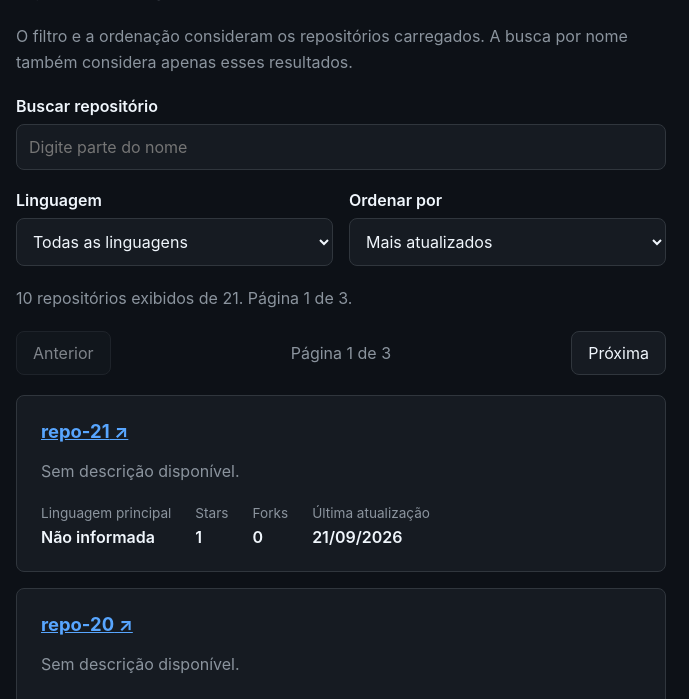
Test case: ordena todos os resultados por name e volta à primeira página
The image size is (689, 699).
(page scrolled)
Click the button "Próxima" at [619, 353], box x1=571 y1=331 x2=666 y2=375
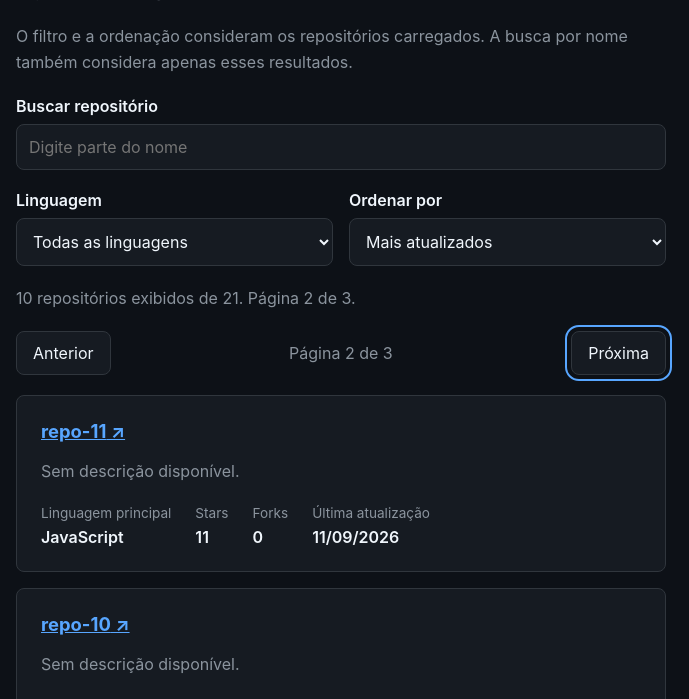
Select "Nome A–Z" in the dropdown labelled "Ordenar por" at [508, 242], box x1=349 y1=218 x2=666 y2=266
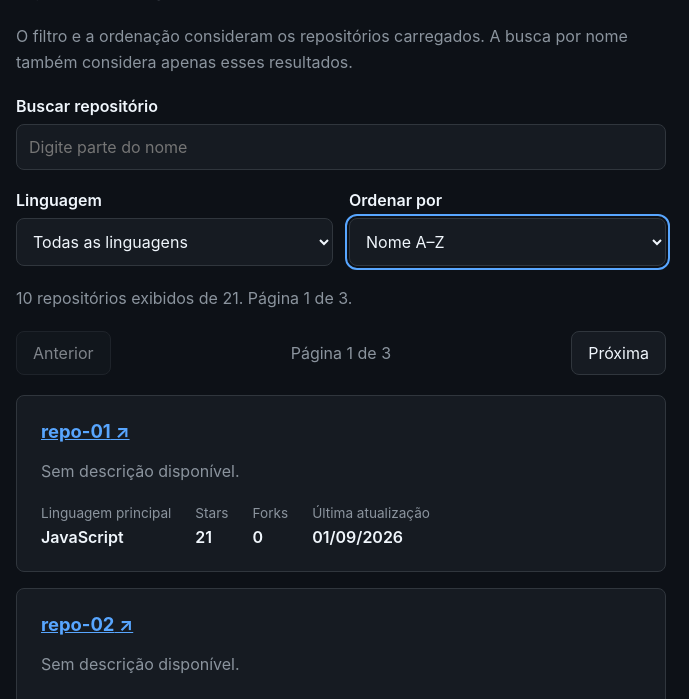
Check: the navigation bar named "Paginação dos repositórios" shows "Página 1 de 3", box x1=16 y1=331 x2=666 y2=375
Check: the link "repo-01 ↗" is shown, box x1=41 y1=420 x2=130 y2=442
Click the button "Próxima" at [619, 353], box x1=571 y1=331 x2=666 y2=375
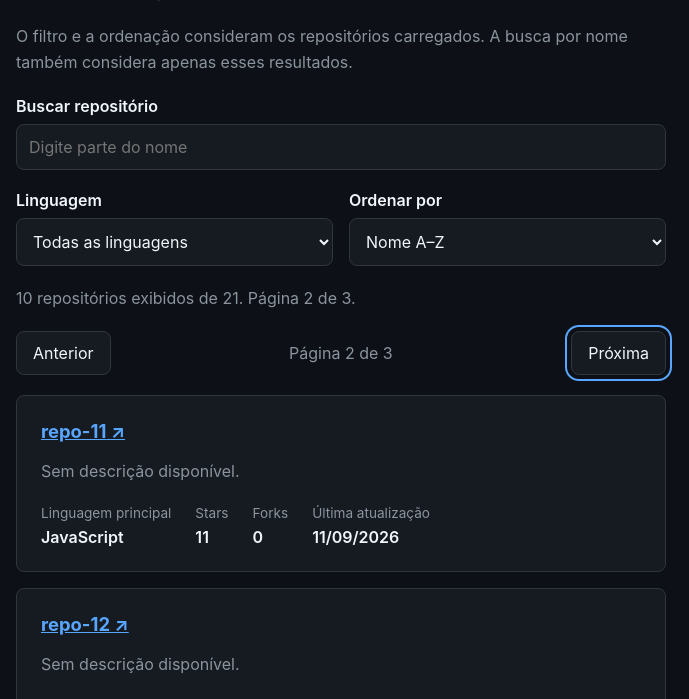
Check: the link "repo-11 ↗" is shown, box x1=41 y1=420 x2=125 y2=442
